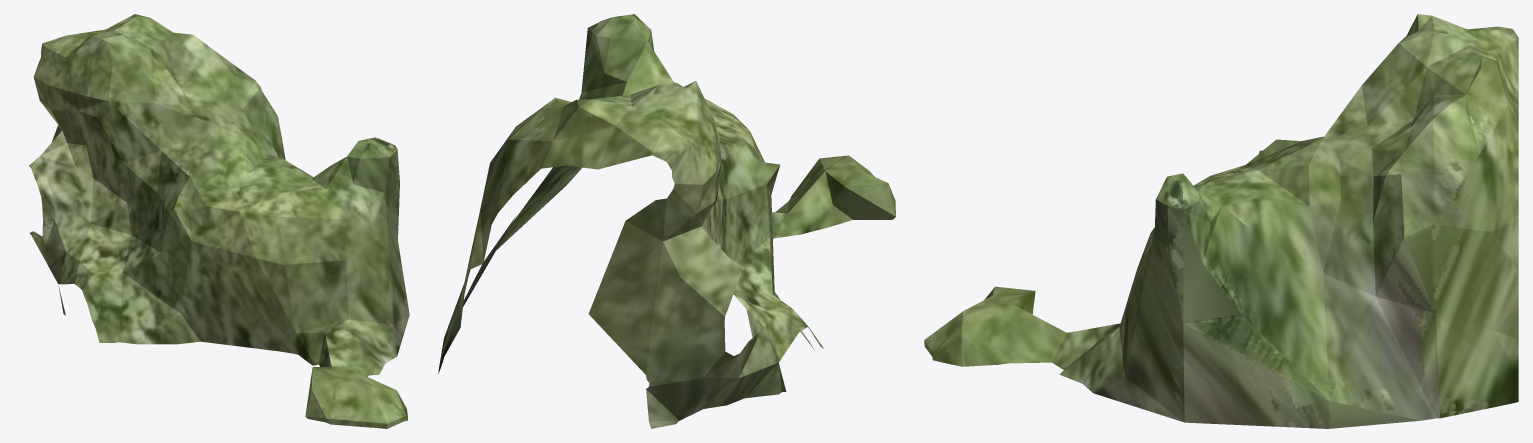
The picture shows the model from 3 angles, left to right: view 1: azimuth 30°, elevation 25°; view 2: azimuth 150°, elevation 25°; view 3: azimuth 270°, elevation 25°; orthographic projection. The views are drawn at different scales.
Size of the model in its own units: 1.78 by 1.56 by 2.87.
2 materials, 2 textured.
